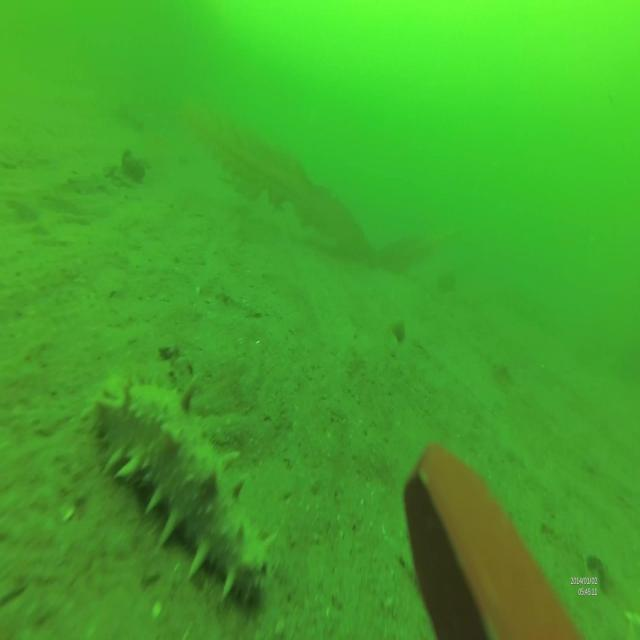echinus: (121, 146, 145, 182)
holothurian: (94, 372, 270, 608)
